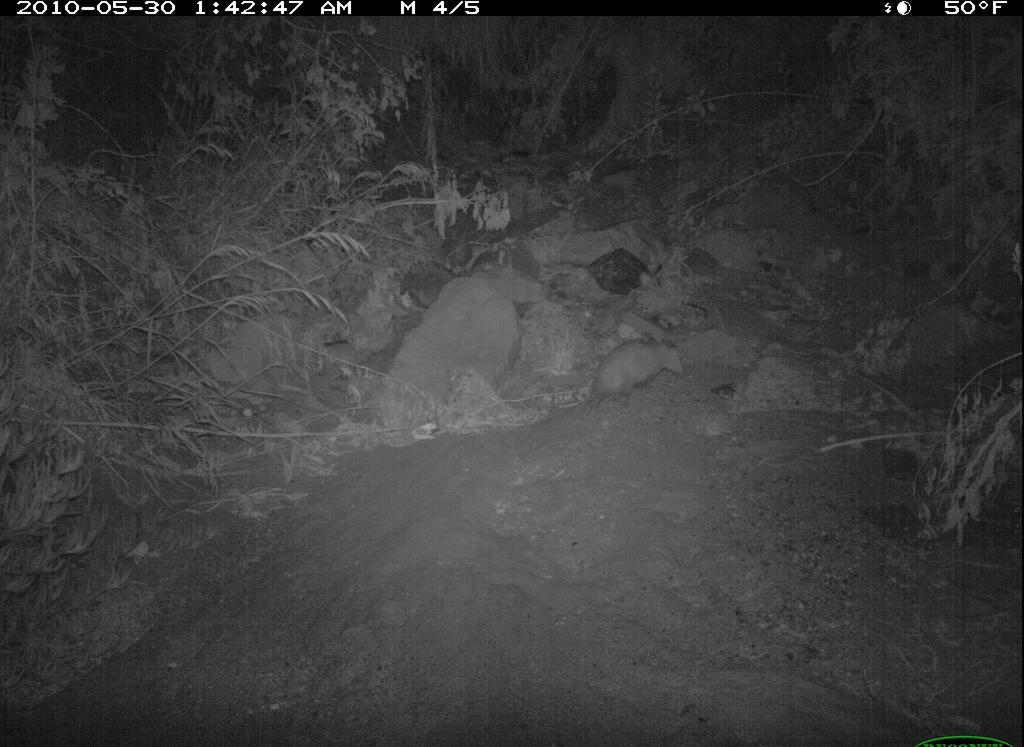opossum: (575, 327, 698, 424)
